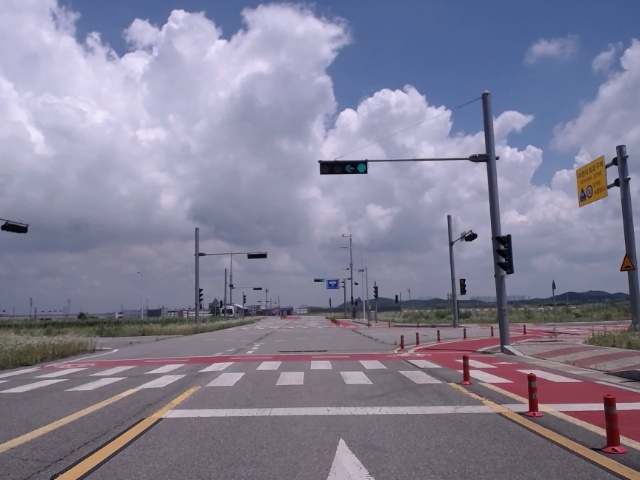all_green_4: (321, 161, 366, 174)
